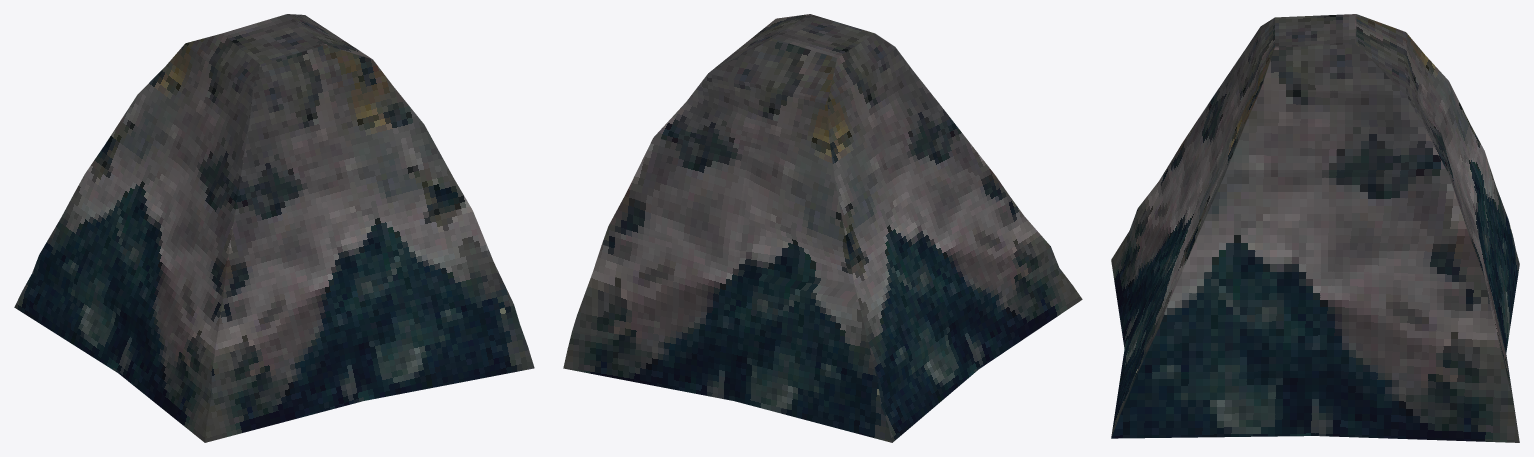
3 renders of one model, left to right at view 1: azimuth 30°, elevation 25°; view 2: azimuth 150°, elevation 25°; view 3: azimuth 270°, elevation 25°, orthographic. The views are drawn at different scales.
Parts seen in each view (by area): view 1: SPLICE_2; view 2: SPLICE_2; view 3: SPLICE_2.
Boxes of the visible parts, x1=… form: SPLICE_2: x1=14, y1=14, x2=534, y2=442; SPLICE_2: x1=563, y1=14, x2=1082, y2=442; SPLICE_2: x1=1111, y1=14, x2=1519, y2=442.
Bounding box in the file's own units: 1.03 × 0.9164 × 1.03.
1 material, 1 textured.
